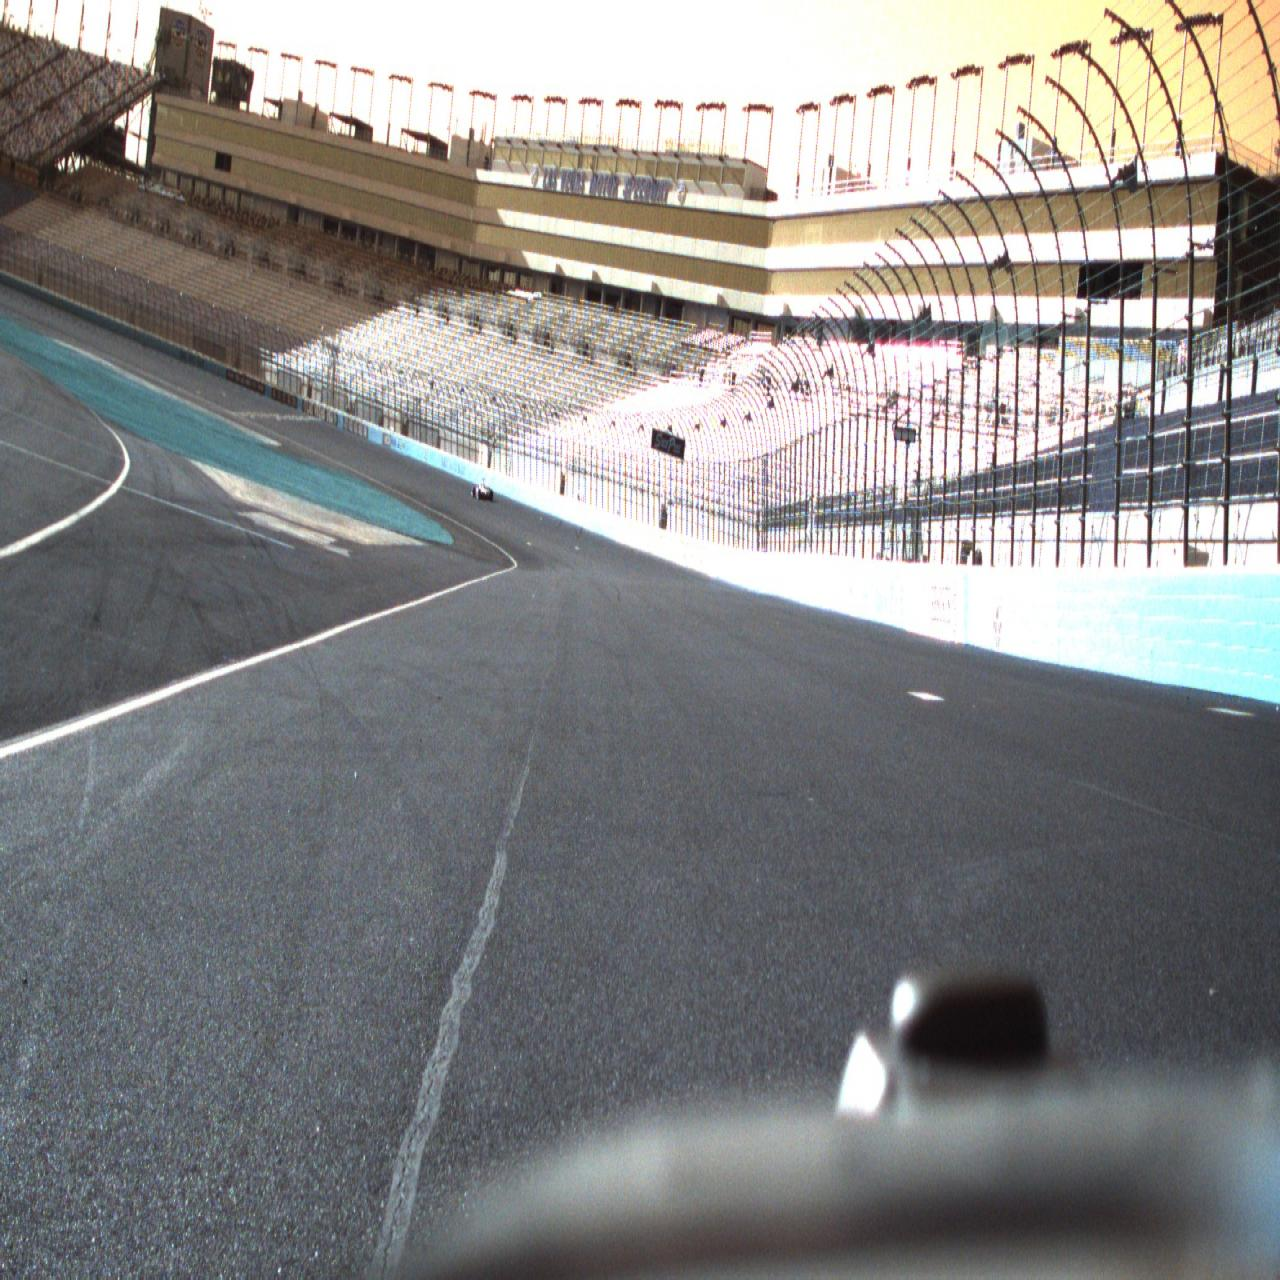AV: (471, 478, 493, 500)
Wheel: (478, 489, 482, 500), (490, 490, 493, 500), (473, 487, 476, 497)
